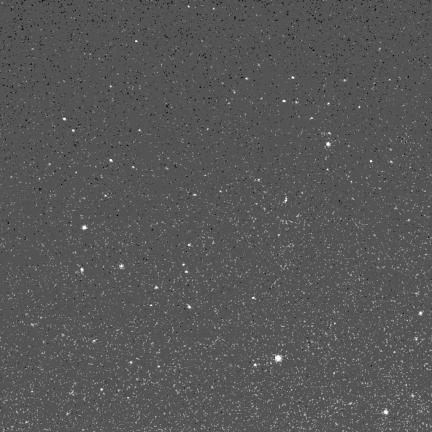blob: (275, 355, 281, 361), (327, 142, 332, 148), (82, 225, 87, 230), (384, 410, 388, 415), (119, 264, 124, 268), (254, 363, 258, 368), (185, 270, 189, 274), (182, 263, 186, 267), (100, 388, 104, 392), (110, 159, 114, 163), (154, 286, 158, 289), (188, 244, 192, 247), (292, 76, 295, 80), (419, 311, 422, 315), (188, 305, 191, 309), (63, 117, 66, 121), (370, 160, 373, 163), (246, 78, 249, 81), (72, 130, 75, 133), (135, 40, 138, 43), (139, 129, 142, 132), (81, 268, 83, 272), (252, 297, 256, 299), (283, 100, 286, 102), (130, 361, 132, 364), (359, 106, 361, 109)
